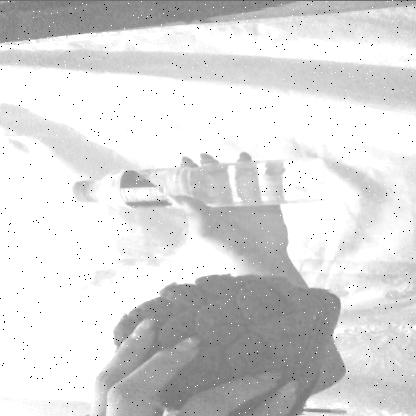Plastic Bottle: (58, 126, 338, 221)
